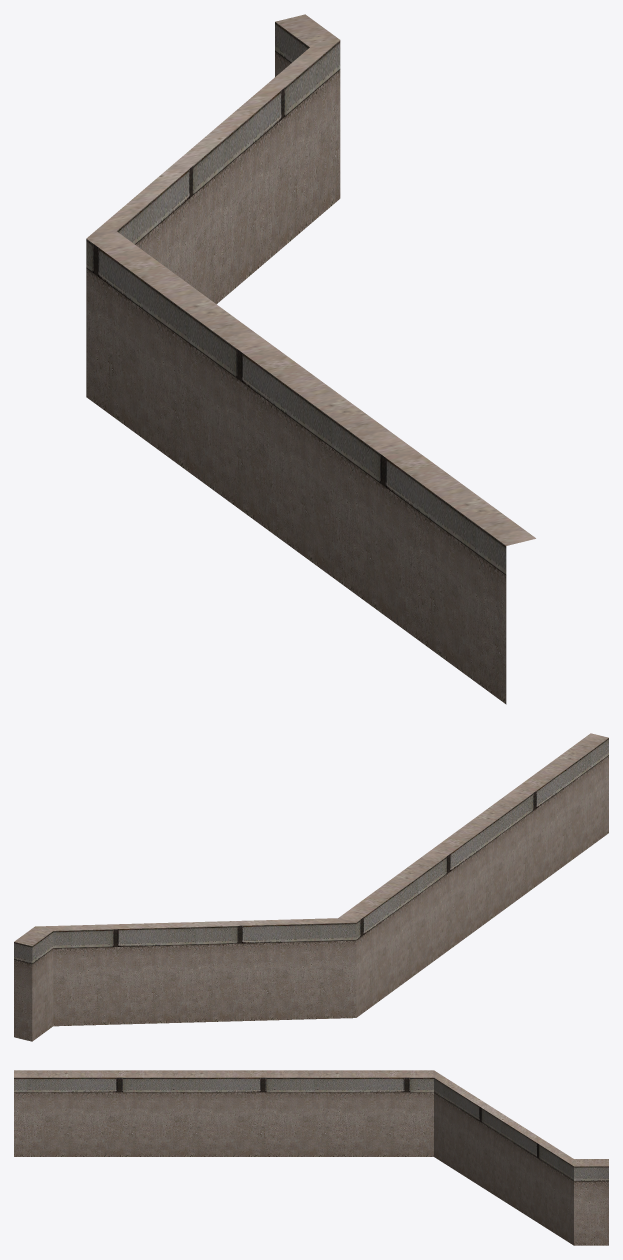
The model's file is M2Z4_BlockingWall2.glb.
3 renders of one model, top to bottom at view 1: azimuth 30°, elevation 25°; view 2: azimuth 150°, elevation 25°; view 3: azimuth 270°, elevation 25°, orthographic. The views are drawn at different scales.
Visible parts, largest first — view 1: M2Z4_BLOCKINGWALL2; view 2: M2Z4_BLOCKINGWALL2; view 3: M2Z4_BLOCKINGWALL2.
Part boxes in pixels (<box>): M2Z4_BLOCKINGWALL2: <box>86,14,535,704</box>; M2Z4_BLOCKINGWALL2: <box>14,733,608,1041</box>; M2Z4_BLOCKINGWALL2: <box>14,1070,608,1245</box>.
Size of the model in its own units: 6.5 by 2.5 by 17.
2 materials, 2 textured.
